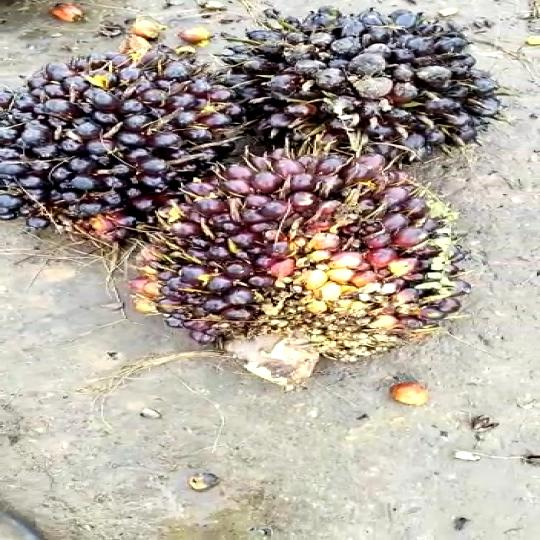mentah: (119, 140, 461, 380), (0, 35, 244, 243), (225, 0, 506, 168)
